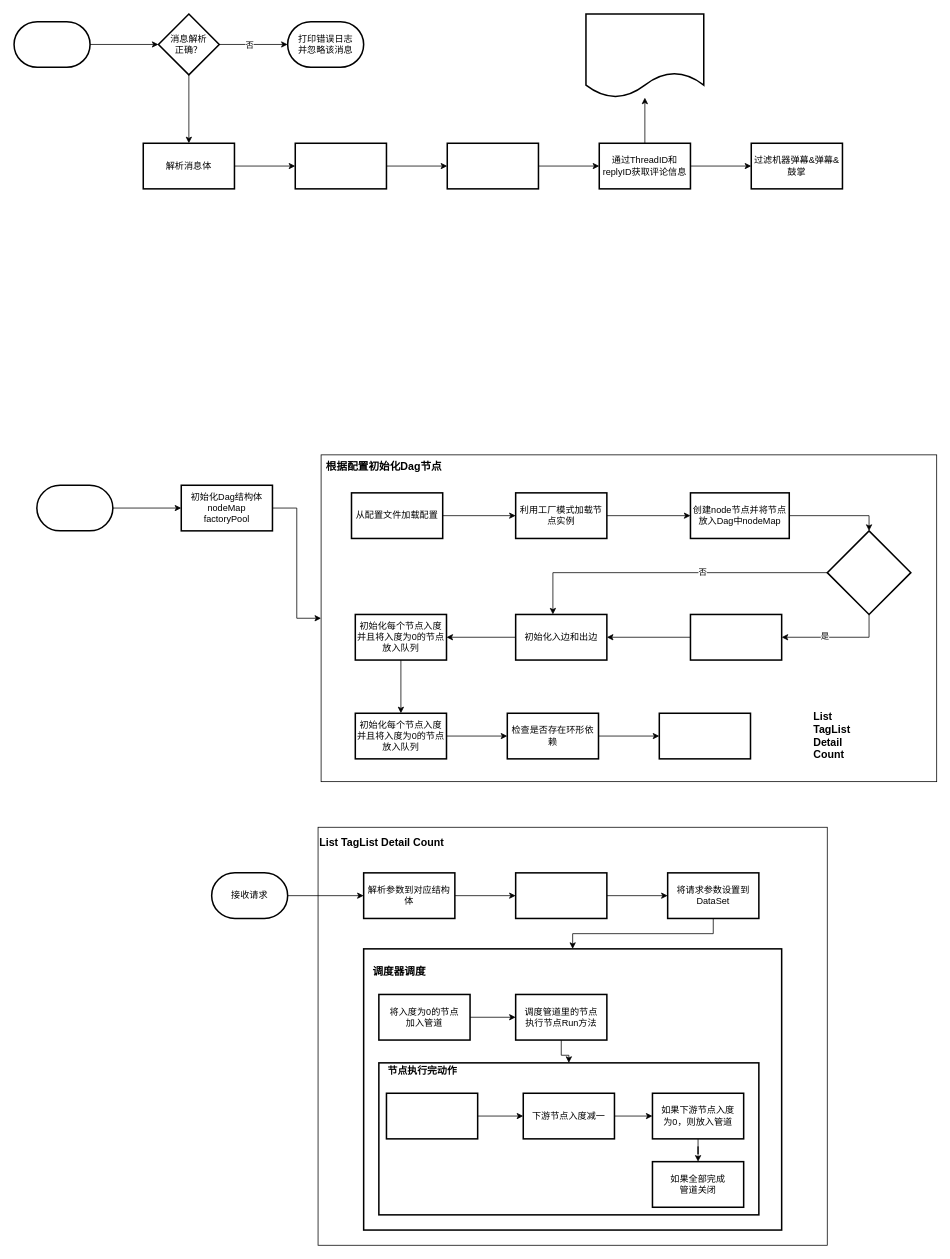
This 950x1259 diagram has some shape labels left out. Here are the shapes that lost their labels. From the top down, the centre of each, then its label:
At point (51, 44): "接收pipe消息".
At point (644, 55): "1. 从数据库取reply信息 2. 从localcache取content 3. 取不到从数据库取content".
At point (340, 165): "检查消息是否为空 或者ThreadID为空".
At point (492, 165): "检查是否为评论开关的切换，否则评论ID不能为空".
At point (74, 507): "初始化图引擎".
At point (868, 572): "节点是否有 依赖节点？".
At point (735, 636): "遍历检查依赖节点是否加载".
At point (704, 735): "复制Dag的nodeMap创建新对象放入池中".
At point (561, 895): "通过复制的dag实例化调度器".
At point (431, 1115): "节点上锁 defer解锁".
